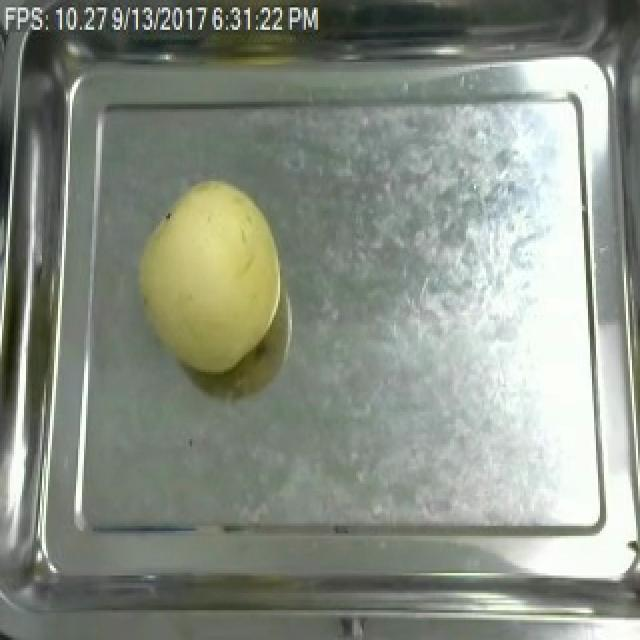Fruit: (128, 171, 290, 382)
